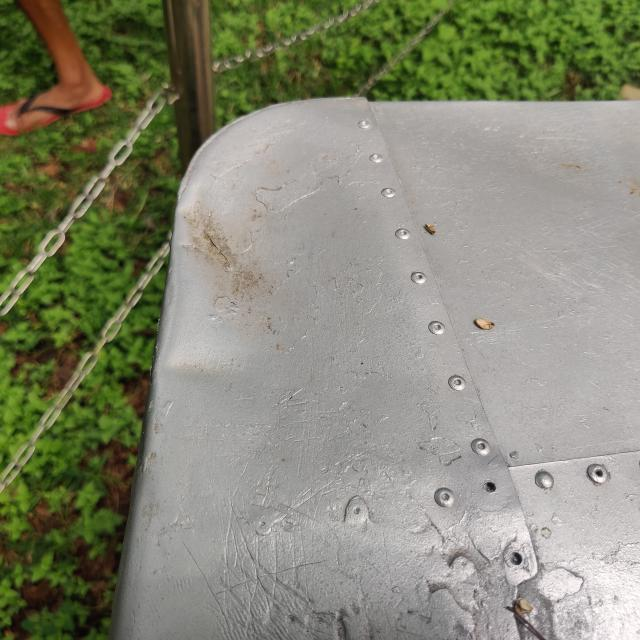dent: (130, 310, 269, 424)
scratch: (194, 516, 329, 640)
